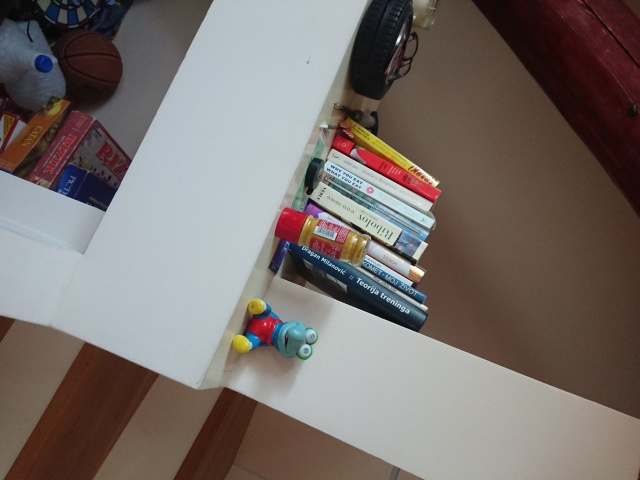Kotanyi Curry Spices Mix 70g: (273, 205, 373, 269)
